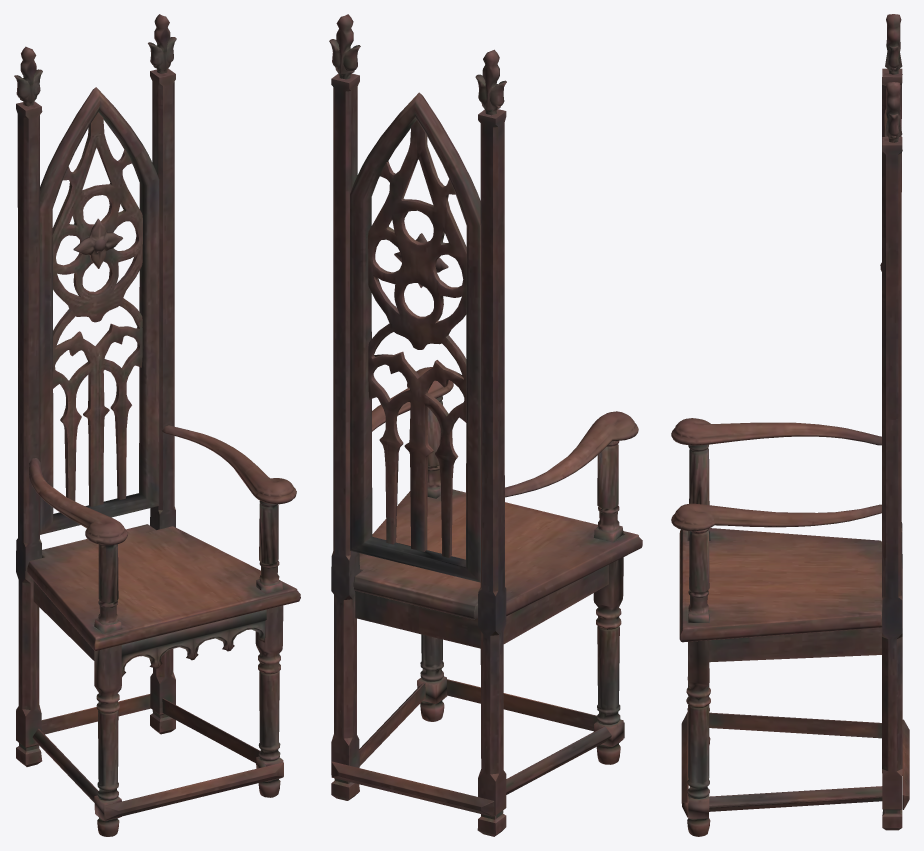
Rendered from woodenchair_01.glb.
3 renders of one model, left to right at view 1: azimuth 30°, elevation 25°; view 2: azimuth 150°, elevation 25°; view 3: azimuth 270°, elevation 25°, orthographic. The views are drawn at different scales.
Visible parts, largest first — view 1: WoodenChair_01; view 2: WoodenChair_01; view 3: WoodenChair_01.
Part boxes in pixels (x1,y1,x2,y2): WoodenChair_01: (14,14,300,836); WoodenChair_01: (329,14,642,836); WoodenChair_01: (671,14,909,836).
Size of the model in its own units: 0.6878 by 2.27 by 0.6584.
1 material, 1 textured.
